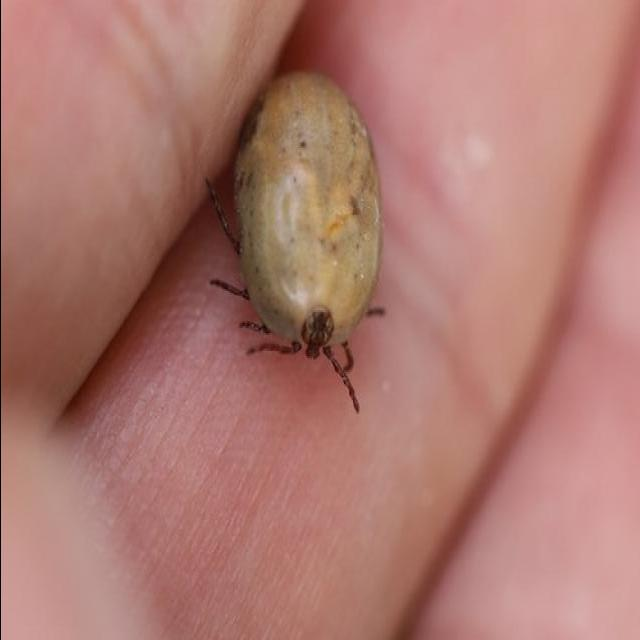Dermacentor Reticulatus-F-Fed: (204, 69, 387, 413)
